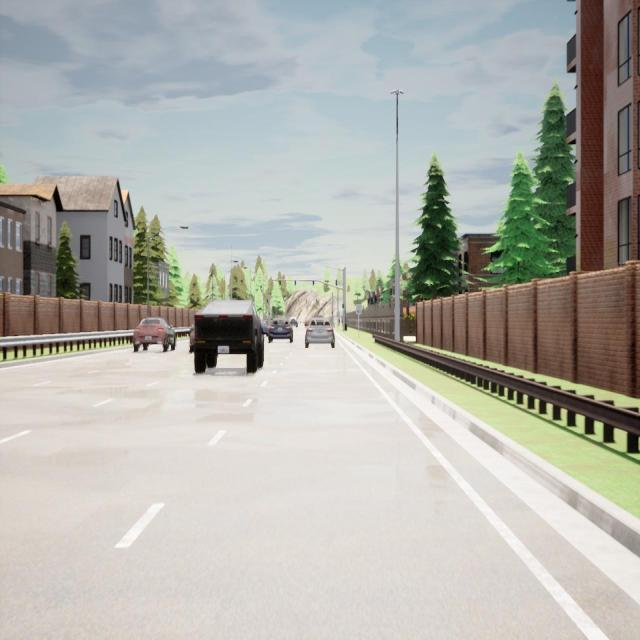Traffic_Signs: (356, 304, 362, 314)
Vehicle: (194, 298, 265, 372), (130, 316, 176, 354), (304, 316, 336, 350), (267, 316, 294, 344), (186, 322, 194, 355), (290, 317, 298, 328), (304, 319, 310, 326)
traffic_light: (342, 304, 344, 313), (279, 280, 281, 288), (294, 280, 296, 288), (312, 280, 314, 288), (336, 279, 338, 286)
